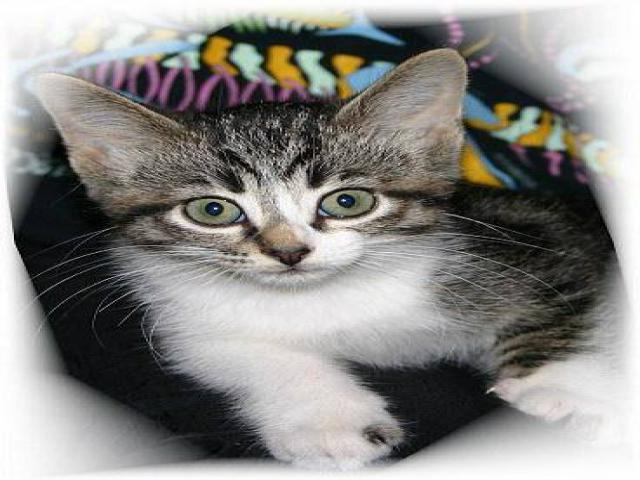cat: (30, 41, 610, 470)
